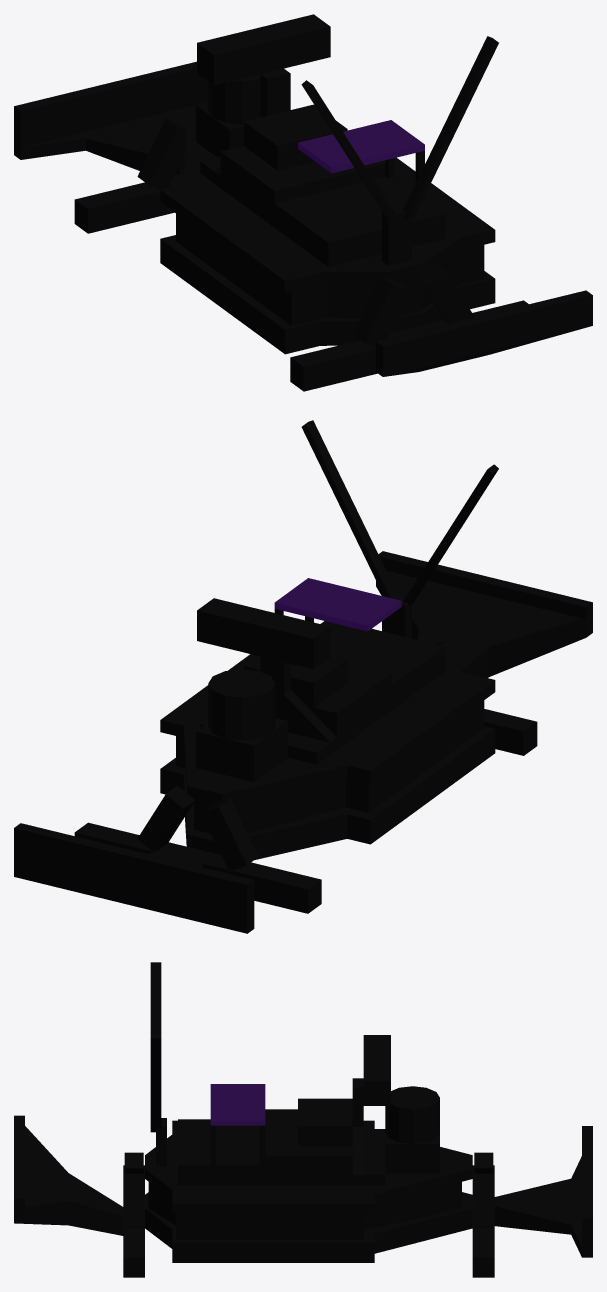
File: ClearCar.dae
3 renders of one model, top to bottom at view 1: azimuth 30°, elevation 25°; view 2: azimuth 150°, elevation 25°; view 3: azimuth 270°, elevation 25°, orthographic. The views are drawn at different scales.
Parts seen in each view (by area): view 1: Top Base Plate, VESC, Extension, Middle Plate, Bottom Base Plate, Camera, Cube, Bottom Piece, Base, Top Piece, Back Axle, Cooler (+11 smaller); view 2: Top Base Plate, Bottom Piece, Extension, Bottom Base Plate, Middle Plate, Camera, VESC, Front Axle, Circle, Powerboard, Top Piece, Cube (+12 smaller); view 3: Top Base Plate, Bottom Base Plate, Middle Plate, Bottom Piece, VESC, Cube, Base, Circle, Cooler, Powerboard, Camera, Cube.001 (+14 smaller).
Part boxes in pixels (x1,y1,x2,y2): Top Base Plate: (160,122,495,293); VESC: (274,176,445,267); Extension: (14,61,208,147); Middle Plate: (176,213,484,325); Bottom Base Plate: (160,235,495,354); Camera: (197,14,330,85); Cube: (220,146,385,227); Bottom Piece: (376,307,592,376); Base: (14,105,195,174); Top Piece: (376,290,592,358); Back Axle: (290,300,528,391); Cooler: (244,104,347,170); Top Base Plate: (160,654,495,804); Bottom Piece: (376,571,592,677); Extension: (14,823,254,921); Bottom Base Plate: (160,726,495,859); Middle Plate: (176,700,484,833); Camera: (197,598,330,669); VESC: (320,621,445,709); Front Axle: (74,822,321,913); Circle: (208,669,275,740); Powerboard: (274,578,401,631); Top Piece: (378,551,592,619); Cube: (242,663,391,749); Top Base Plate: (145,1120,472,1213); Bottom Base Plate: (145,1192,472,1262); Middle Plate: (148,1182,461,1239); Bottom Piece: (14,1126,123,1235); VESC: (178,1119,265,1185); Cube: (265,1109,352,1185); Base: (494,1156,592,1257); Circle: (385,1086,439,1143); Cooler: (298,1098,352,1146); Powerboard: (210,1084,265,1125); Camera: (363,1035,390,1105); Cube.001: (385,1133,439,1173).
Size of the model in its own units: 0.2 by 0.53 by 0.2356.
